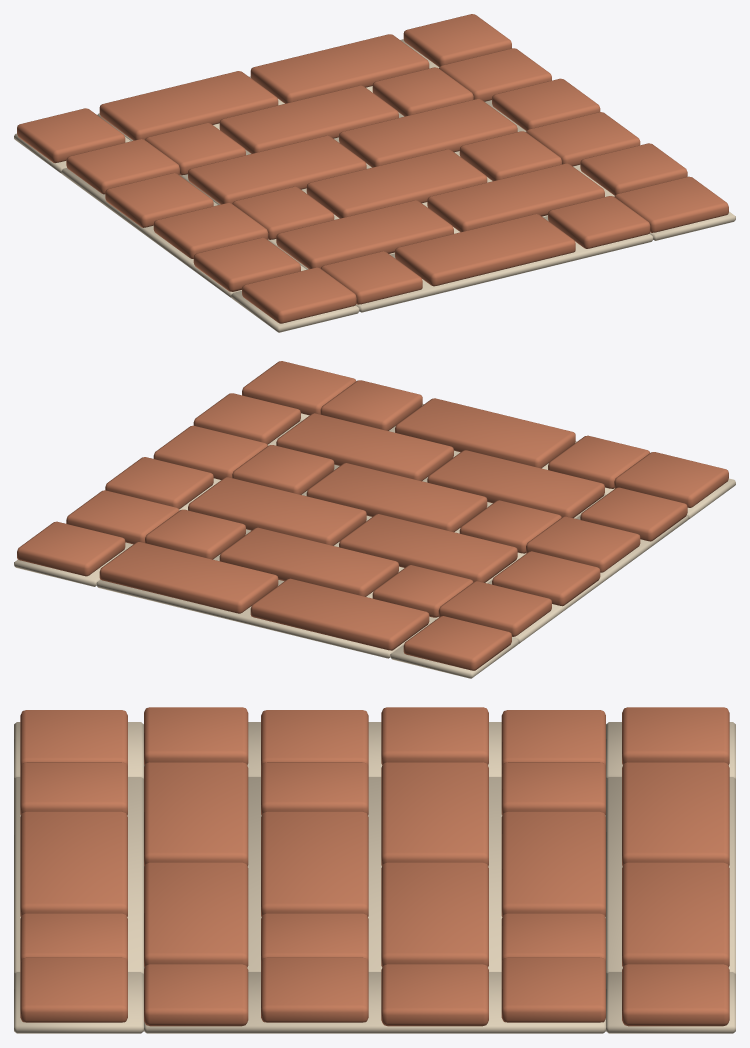
File: path-brick.glb
3 renders of one model, top to bottom at view 1: azimuth 30°, elevation 25°; view 2: azimuth 150°, elevation 25°; view 3: azimuth 270°, elevation 25°, orthographic. The views are drawn at different scales.
Visible parts, largest first — view 1: core, link_s, link_w, link_e, link_n, link_sw, link_se, link_nw, link_ne; view 2: core, link_n, link_w, link_e, link_s, link_nw, link_ne, link_sw, link_se; view 3: core, link_e, link_n, link_s, link_w, link_se, link_ne, link_nw, link_sw.
Boxes of the visible parts, x1=… form: core: x1=145, y1=67, x2=604, y2=269; link_s: x1=321, y1=196, x2=653, y2=312; link_w: x1=61, y1=139, x2=306, y2=297; link_e: x1=439, y1=48, x2=687, y2=196; link_n: x1=97, y1=34, x2=429, y2=141; link_sw: x1=231, y1=267, x2=359, y2=332; link_se: x1=614, y1=176, x2=735, y2=240; link_nw: x1=14, y1=108, x2=130, y2=173; link_ne: x1=400, y1=14, x2=511, y2=68; core: x1=145, y1=413, x2=604, y2=619; link_n: x1=96, y1=542, x2=434, y2=658; link_w: x1=438, y1=487, x2=688, y2=643; link_e: x1=66, y1=393, x2=301, y2=544; link_s: x1=320, y1=380, x2=649, y2=495; link_nw: x1=390, y1=616, x2=518, y2=678; link_ne: x1=14, y1=521, x2=132, y2=586; link_sw: x1=614, y1=452, x2=735, y2=519; link_se: x1=242, y1=361, x2=355, y2=420; core: x1=144, y1=762, x2=605, y2=971; link_e: x1=144, y1=957, x2=605, y2=1033; link_n: x1=606, y1=762, x2=735, y2=974; link_s: x1=14, y1=762, x2=143, y2=974; link_w: x1=144, y1=707, x2=605, y2=776; link_se: x1=14, y1=957, x2=143, y2=1033; link_ne: x1=606, y1=964, x2=735, y2=1033; link_nw: x1=606, y1=707, x2=735, y2=778; link_sw: x1=14, y1=710, x2=143, y2=778.
Size of the model in its own units: 1 by 0.038 by 1.
